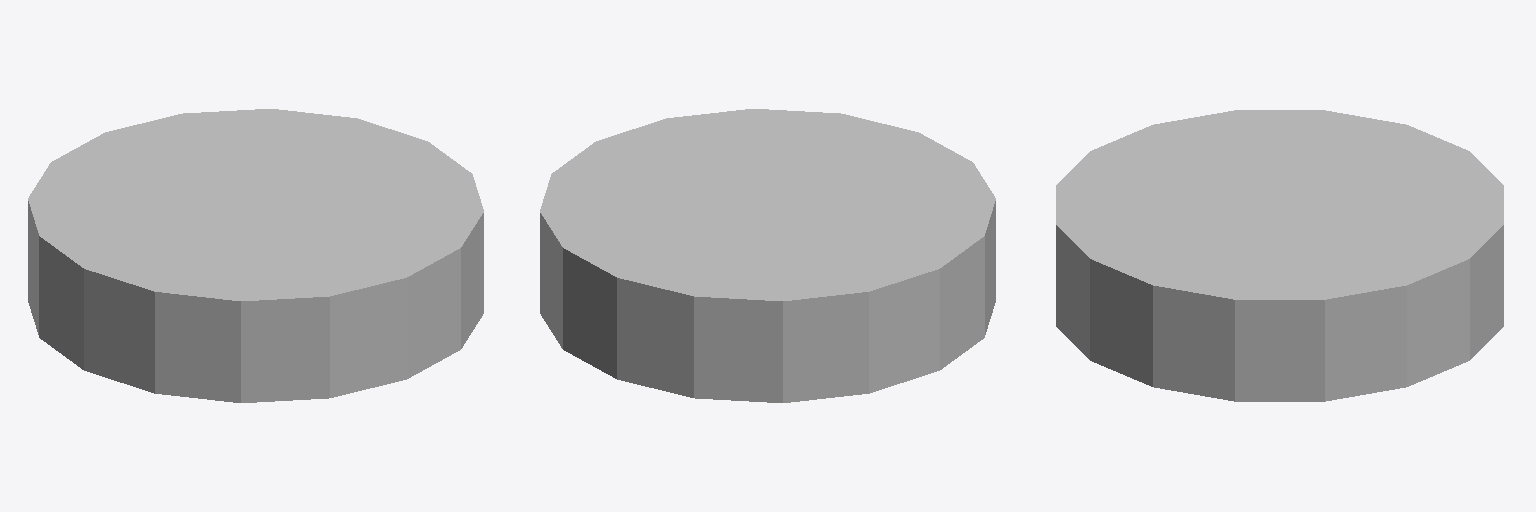
Rendered from large_item.obj.
3 views of the same model, side by side, from view 1: azimuth 30°, elevation 25°; view 2: azimuth 150°, elevation 25°; view 3: azimuth 270°, elevation 25° (orthographic).
Visible parts, largest first — view 1: cube; view 2: cube; view 3: cube.
Part boxes in pixels (bbox=[...]): cube: bbox=[28, 109, 483, 402]; cube: bbox=[540, 109, 995, 402]; cube: bbox=[1056, 110, 1503, 401].
Size of the model in its own units: 2 by 0.5013 by 2.